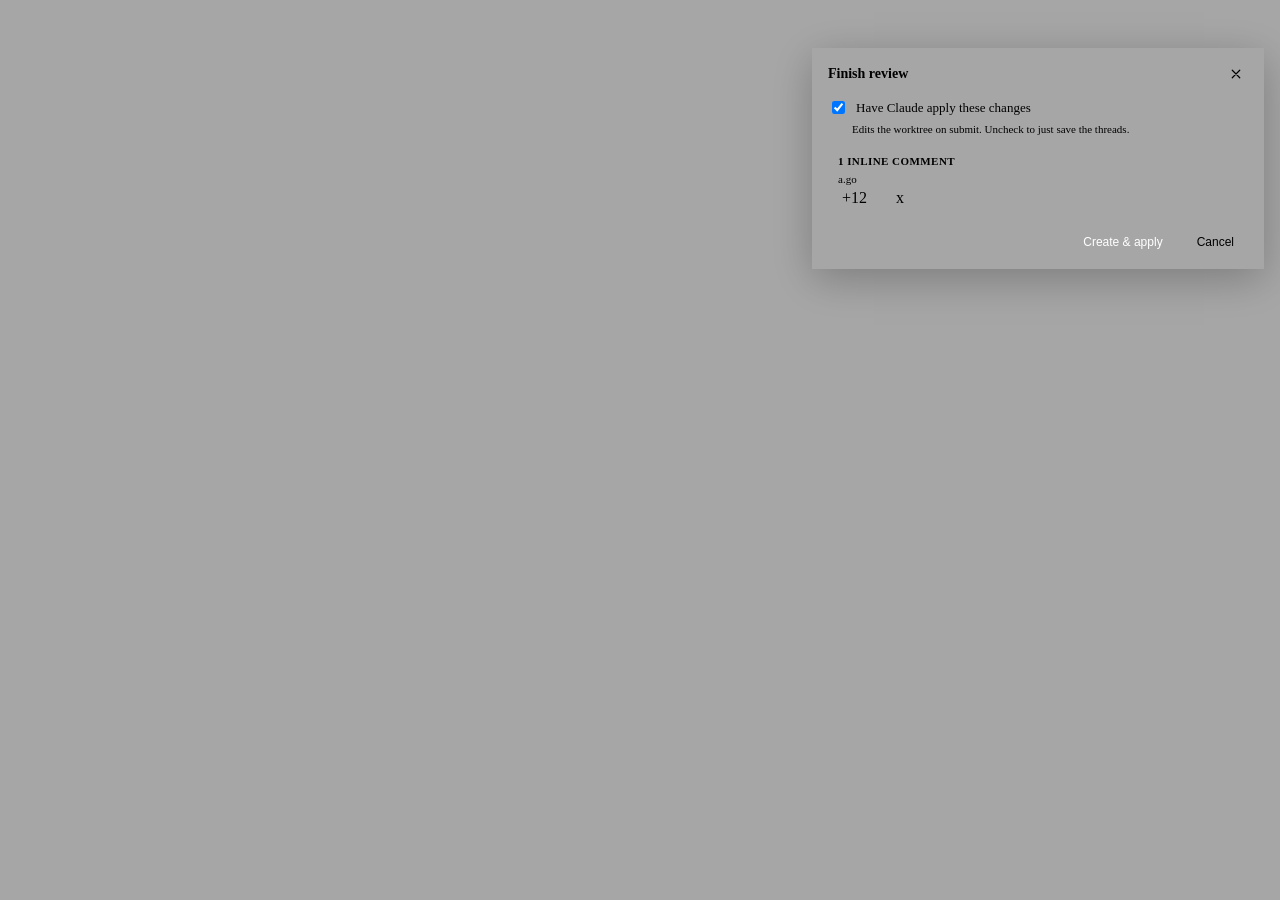
Test: ReviewPanel scopePath (local) › shows the server's error and keeps the panel open
This screenshot has width=1280, height=900.
Click the button "Create & apply". click: [1123, 242]
box: [1069, 229, 1177, 255]
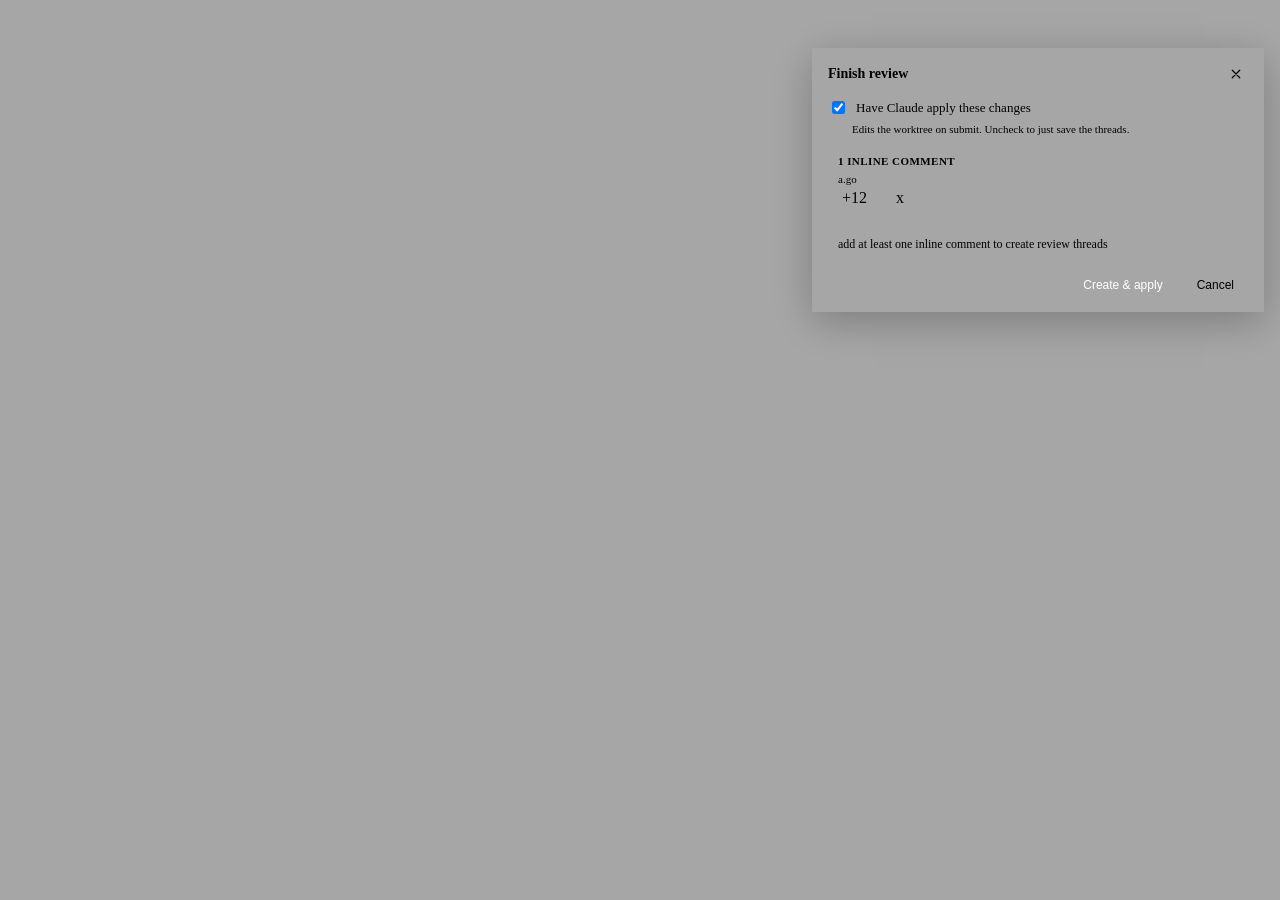
Now the text "add at least one inline comment to create review threads" is shown, box [838, 237, 1108, 251]
